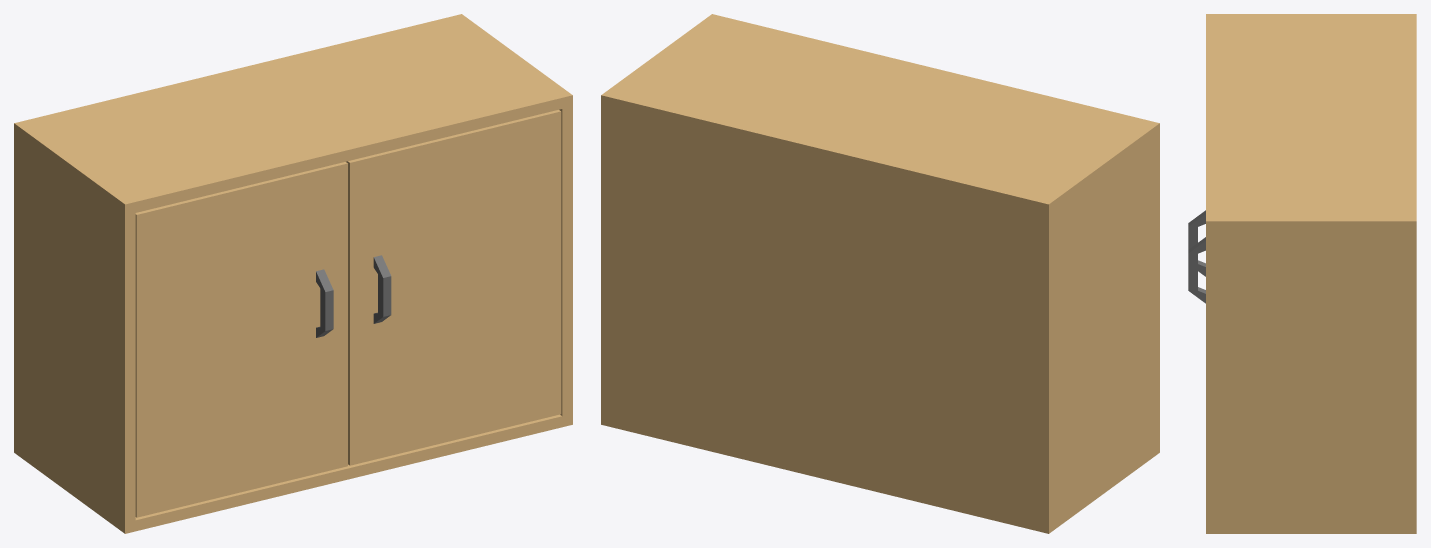
File: VerticalShelf.fbx
3 renders of one model, left to right at view 1: azimuth 30°, elevation 25°; view 2: azimuth 150°, elevation 25°; view 3: azimuth 270°, elevation 25°, orthographic. The views are drawn at different scales.
Parts seen in each view (by area): view 1: Shelf.003, Door.005, Door.004, Handle.006, Handle.007; view 2: Shelf.003; view 3: Shelf.003, Handle.006, Handle.007.
Boxes of the visible parts, <box> form: Shelf.003: <box>14,14,572,533</box>; Door.005: <box>346,110,561,465</box>; Door.004: <box>135,162,347,517</box>; Handle.006: <box>373,255,391,323</box>; Handle.007: <box>316,269,333,337</box>; Shelf.003: <box>601,14,1159,533</box>; Shelf.003: <box>1206,14,1416,533</box>; Handle.006: <box>1188,237,1205,303</box>; Handle.007: <box>1188,210,1205,276</box>.
Size of the model in its own units: 155 by 109 by 72.26.
